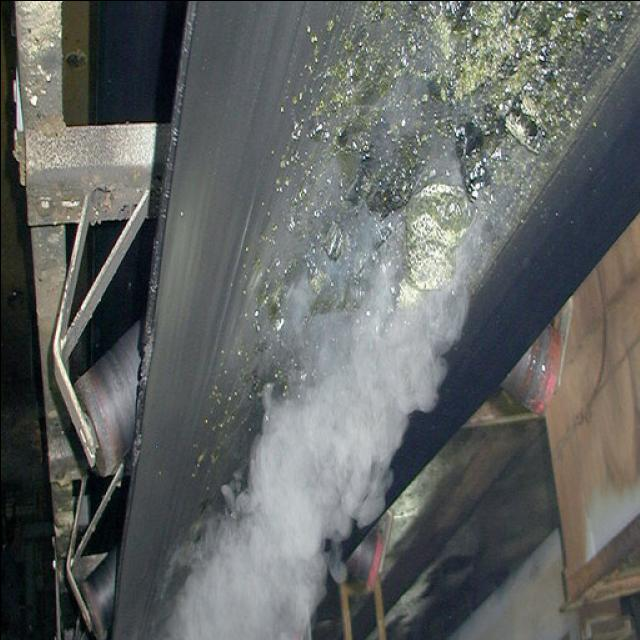conveyor: (125, 0, 640, 640)
